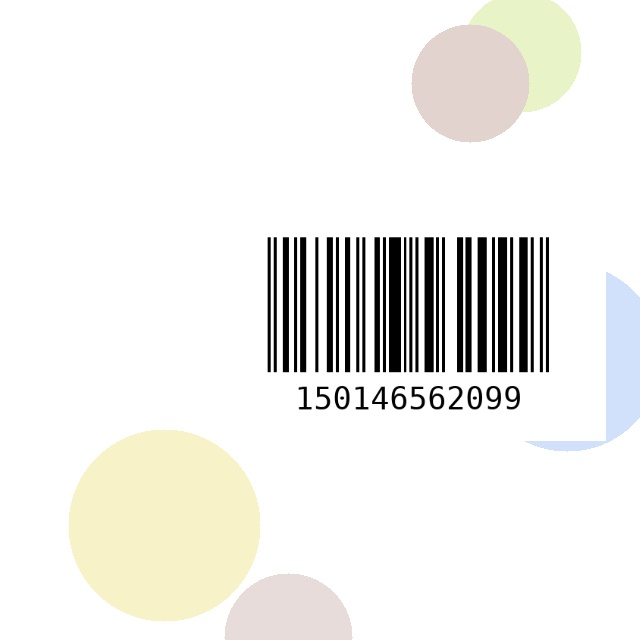barcode: (210, 229, 606, 441)
